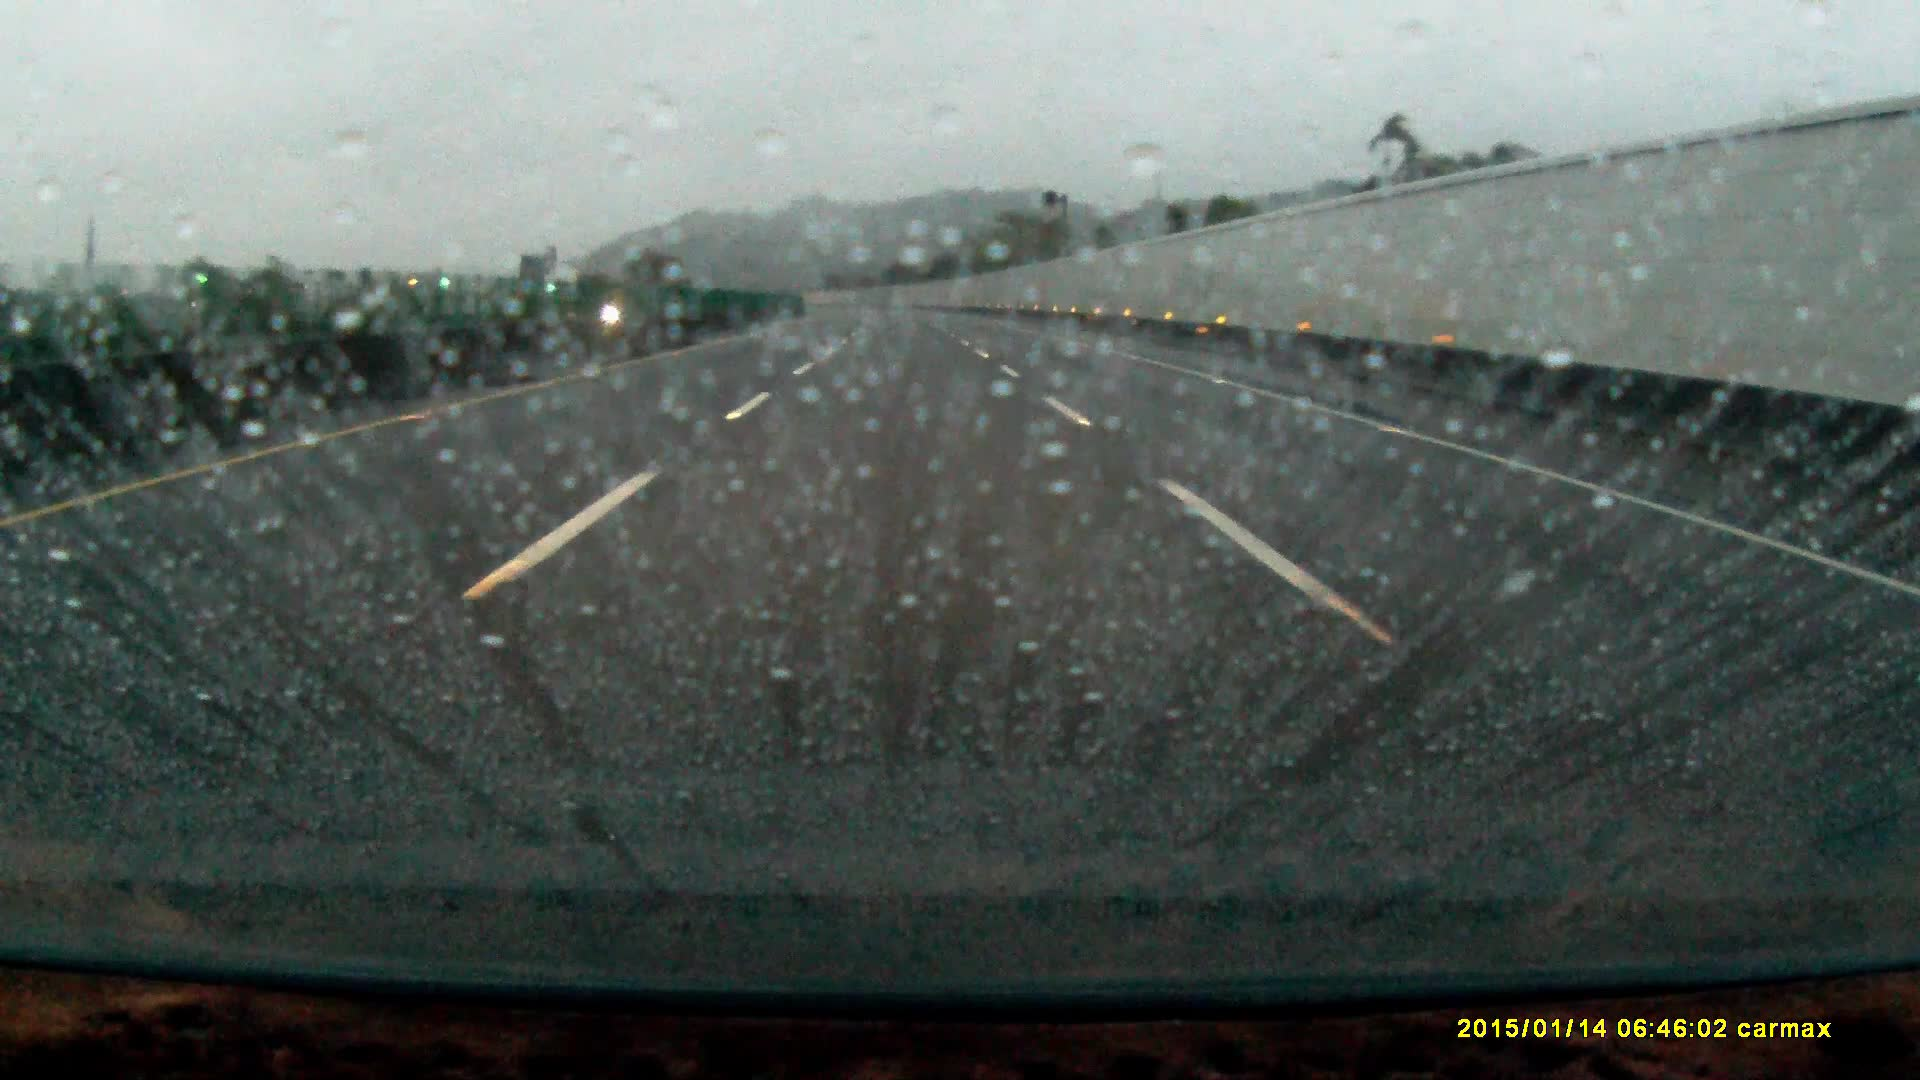vehicle: (578, 290, 632, 318)
